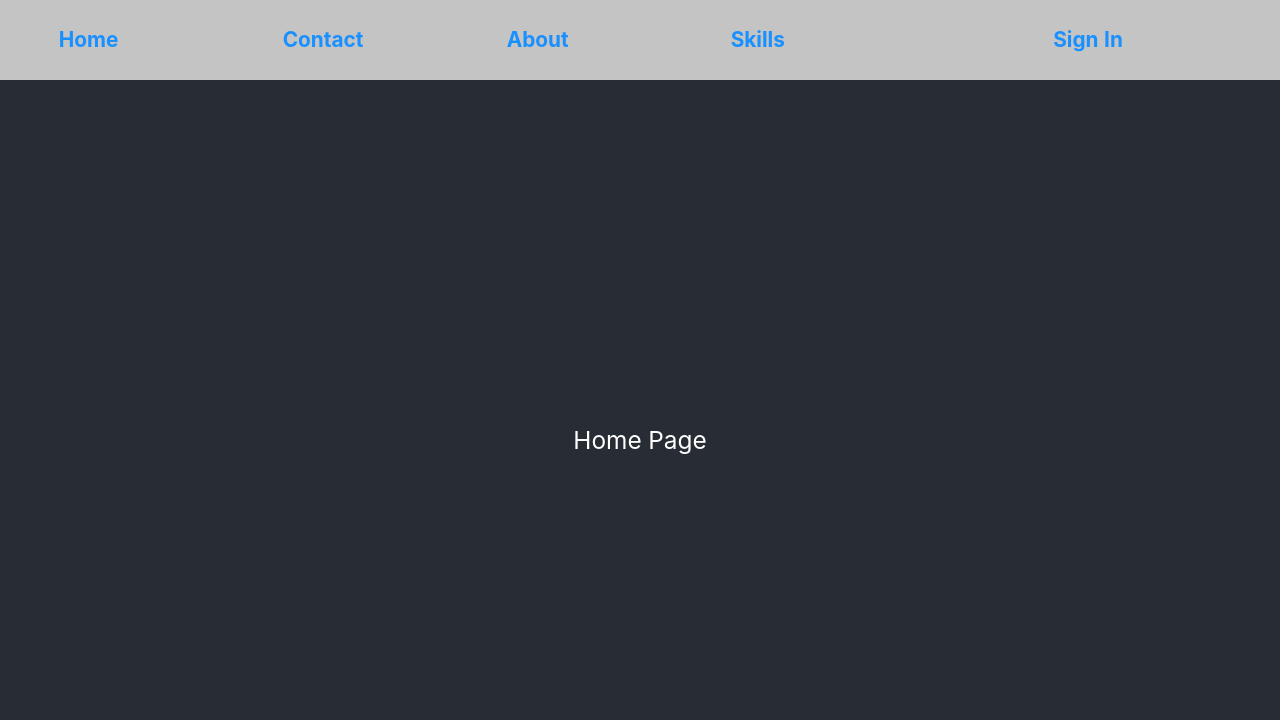
Test case: Authentication flows › should show validation errors on empty login form
Click the link "Sign In" at [1088, 41], box [1053,24,1123,57]
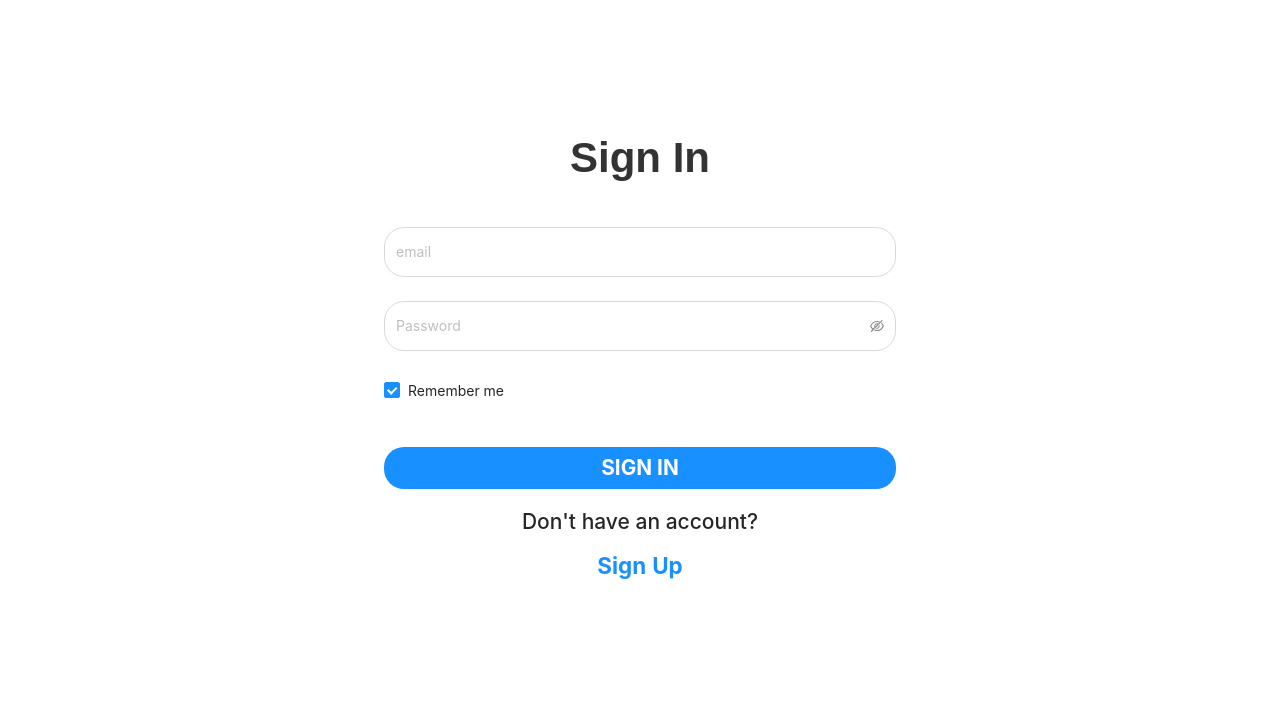
Click the button "SIGN IN" at [640, 468], box [384,447,896,489]
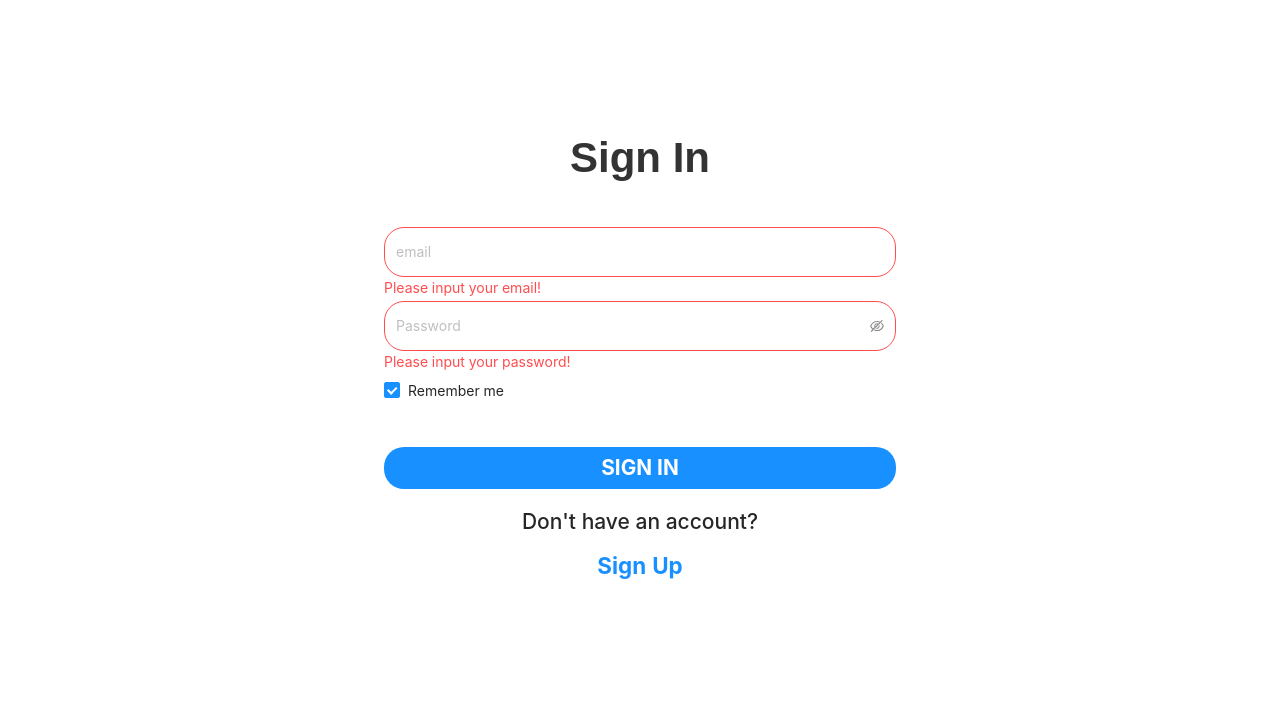
Now the text "Please input your email" is shown, box [384,279,541,296]
Now the text "Please input your password" is shown, box [384,353,571,370]
